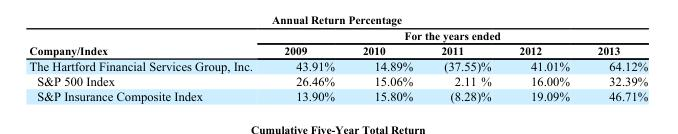table: (28, 28, 647, 102)
table column: (28, 28, 267, 102), (267, 28, 347, 102), (347, 28, 426, 102), (426, 28, 504, 102), (504, 28, 582, 102), (582, 28, 647, 102)
table column header: (28, 28, 647, 57)
table row: (28, 57, 647, 73), (28, 42, 647, 57), (28, 73, 647, 88), (28, 28, 647, 42), (28, 88, 647, 102)
table spanning cell: (28, 28, 267, 57), (267, 28, 647, 42)
